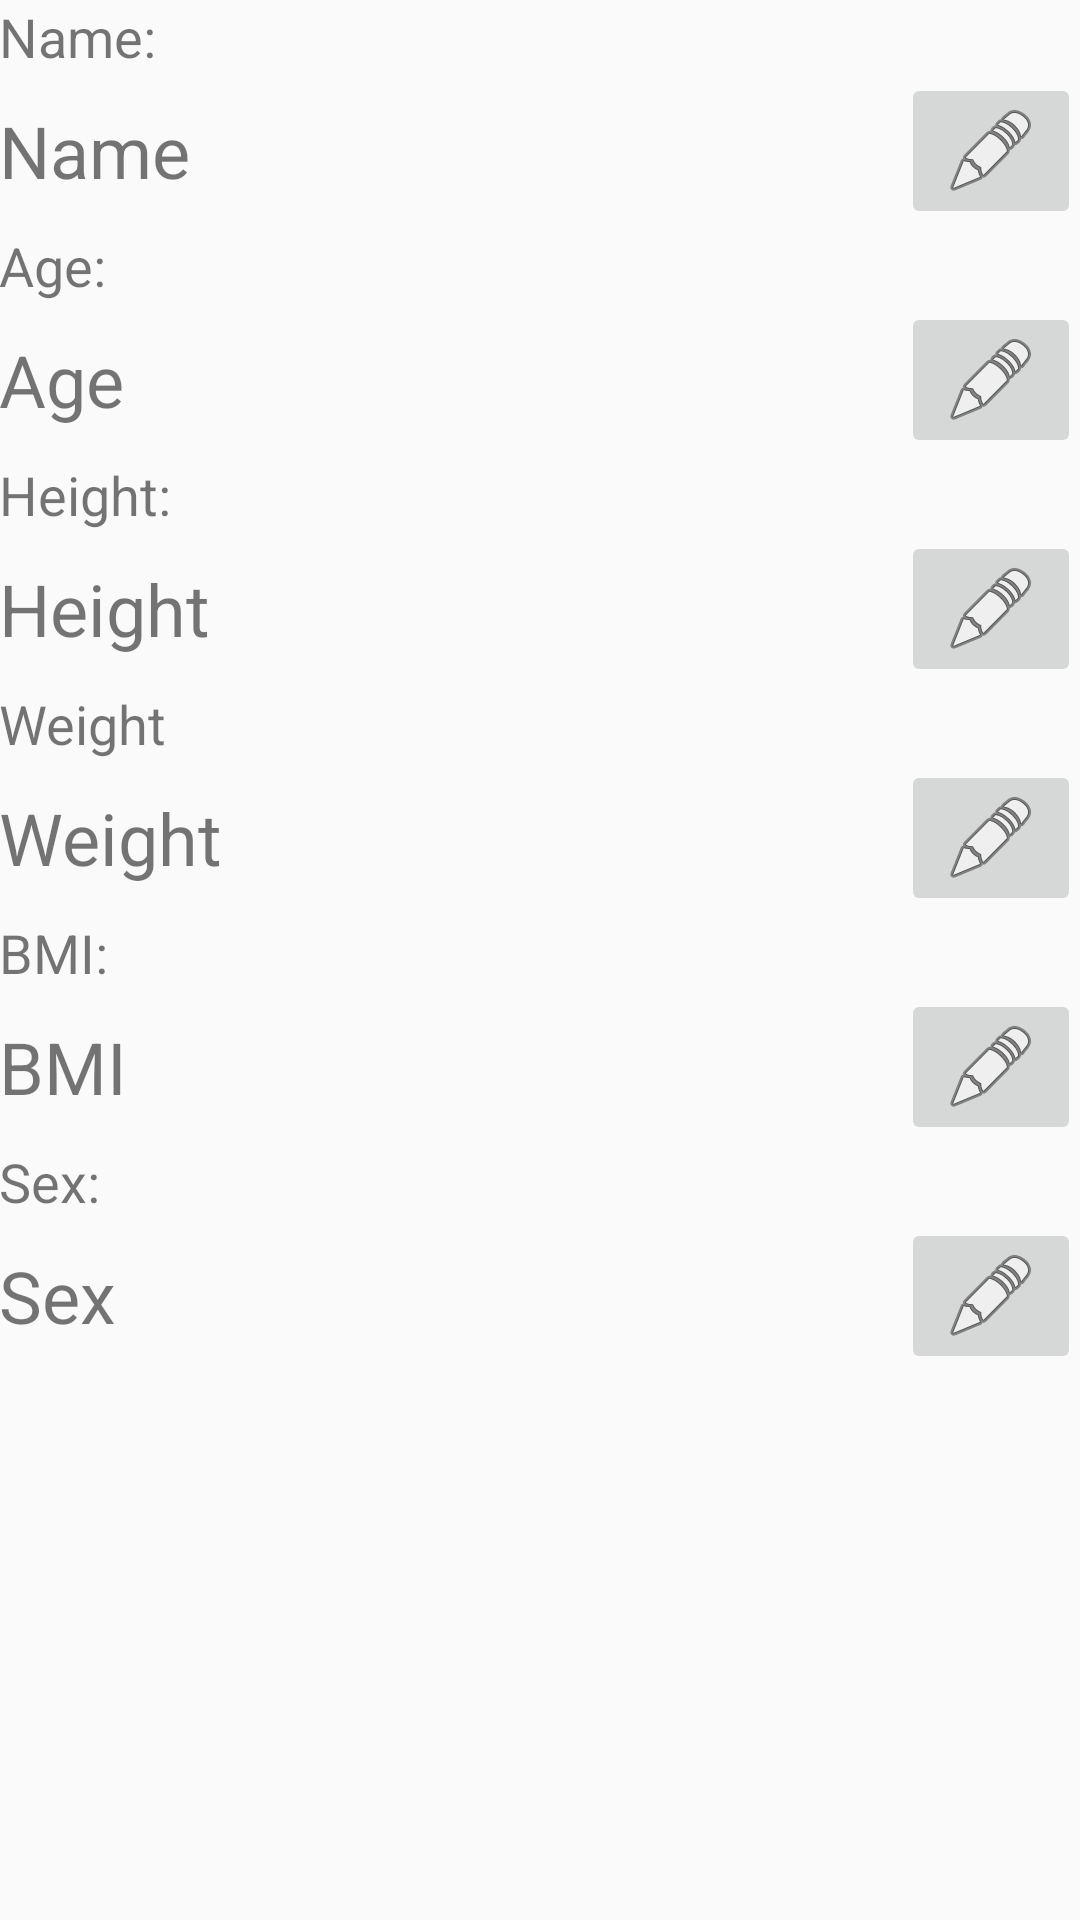

Named icons in this screenshot (1080 × 1920) and their bounding boxes, (x1, y1, x2, y2):
edit: (913, 91, 1069, 211), (913, 320, 1069, 440), (913, 549, 1069, 669), (913, 778, 1069, 898), (913, 1007, 1069, 1127), (913, 1236, 1069, 1356)
